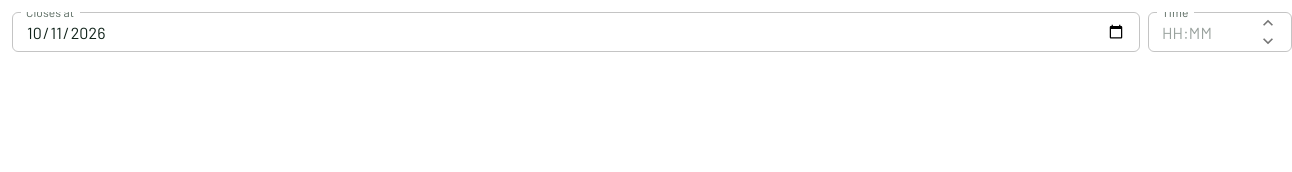
Scenario: DateTimeField › refuses hours above 23 and minutes above 59
Type "27" into the field named "Closes at (time)" at (1201, 32), box [1148,12,1254,52]
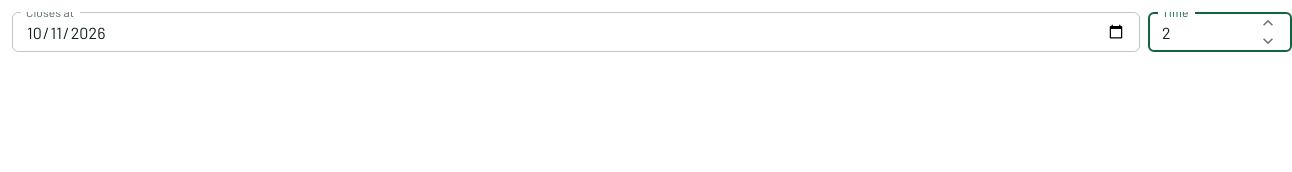
expect the field named "Closes at (time)" holds "2": met
Replace the text in the field named "Closes at (time)" with "1275" at (1201, 32), box [1148,12,1254,52]
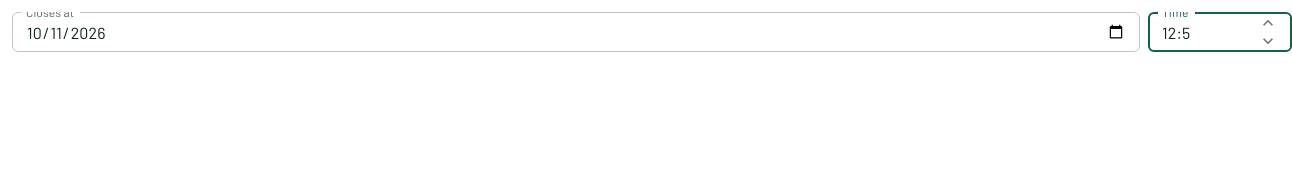
expect the field named "Closes at (time)" holds "12:5": met
Type "9" into the field named "Closes at (time)" at (1201, 32), box [1148,12,1254,52]
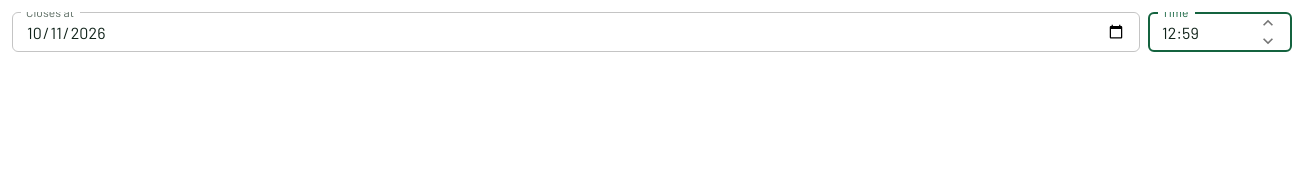
expect the field named "Closes at (time)" holds "12:59": met, box [1148,12,1254,52]
